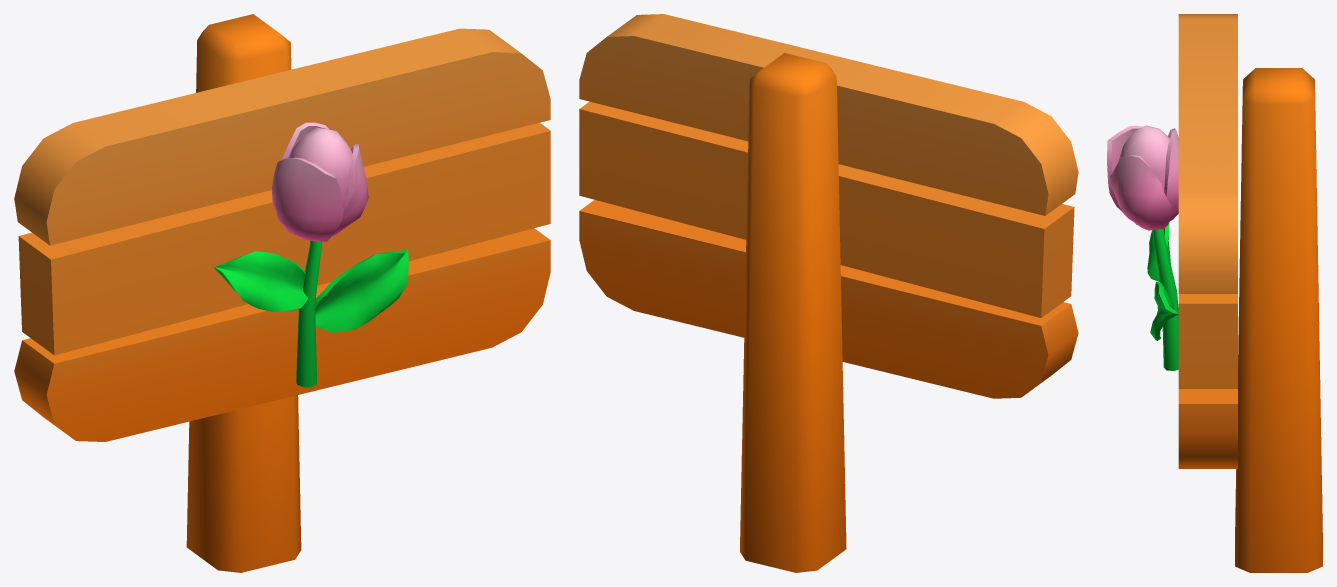
The model's file is Farm_Crop_Sign_Tulip_02.fbx.
The picture shows the model from 3 angles, left to right: view 1: azimuth 30°, elevation 25°; view 2: azimuth 150°, elevation 25°; view 3: azimuth 270°, elevation 25°; orthographic projection. The views are drawn at different scales.
Parts seen in each view (by area): view 1: Farm_Crop_Sign_Tulip_02; view 2: Farm_Crop_Sign_Tulip_02; view 3: Farm_Crop_Sign_Tulip_02.
Boxes of the visible parts, x1,y1,x2,y2 form: Farm_Crop_Sign_Tulip_02: (14,14,550,572); Farm_Crop_Sign_Tulip_02: (579,14,1078,572); Farm_Crop_Sign_Tulip_02: (1107,14,1322,572).
Bounding box in the file's own units: 90.11 × 88.8 × 36.49.
